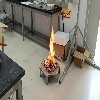fire: (44, 26, 56, 66)
